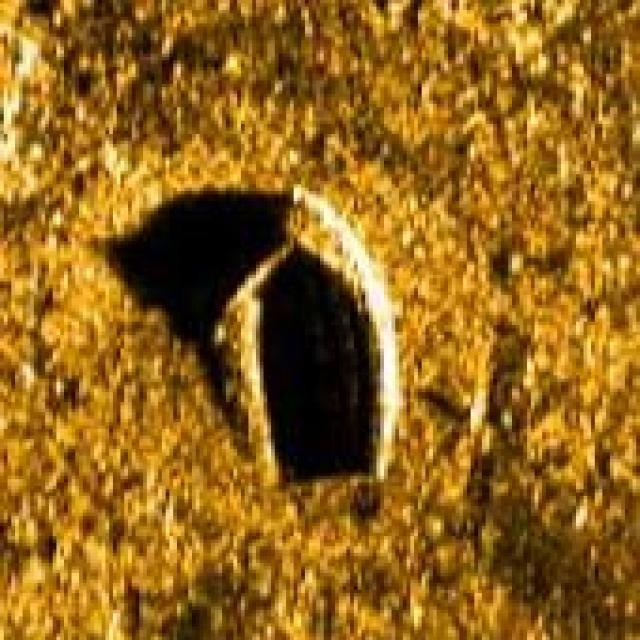shipwreck: (207, 191, 395, 489)
